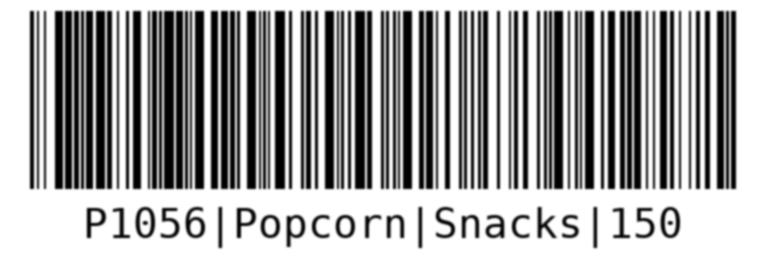milk: (21, 4, 747, 264)
